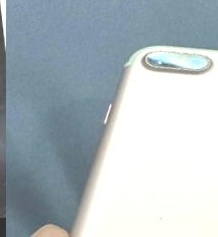scratch: (126, 42, 217, 86), (135, 205, 171, 227)
